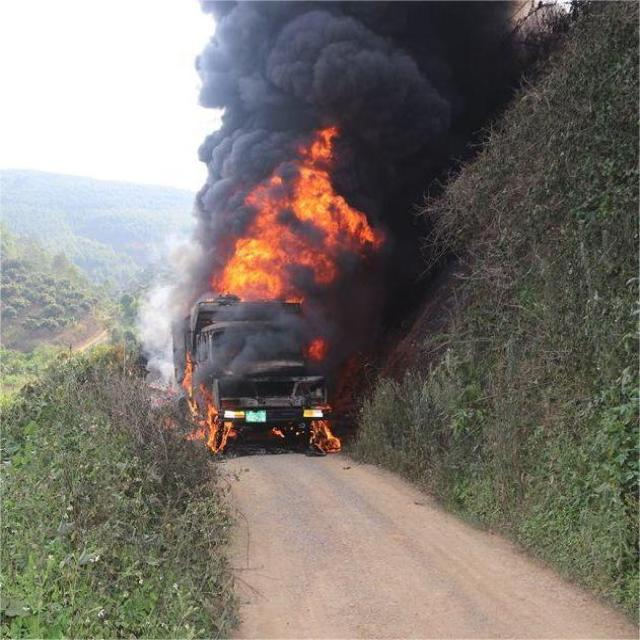Fire: (210, 124, 386, 308), (183, 393, 231, 458), (312, 419, 339, 452), (180, 350, 195, 390)
Smoke: (196, 0, 514, 286)
